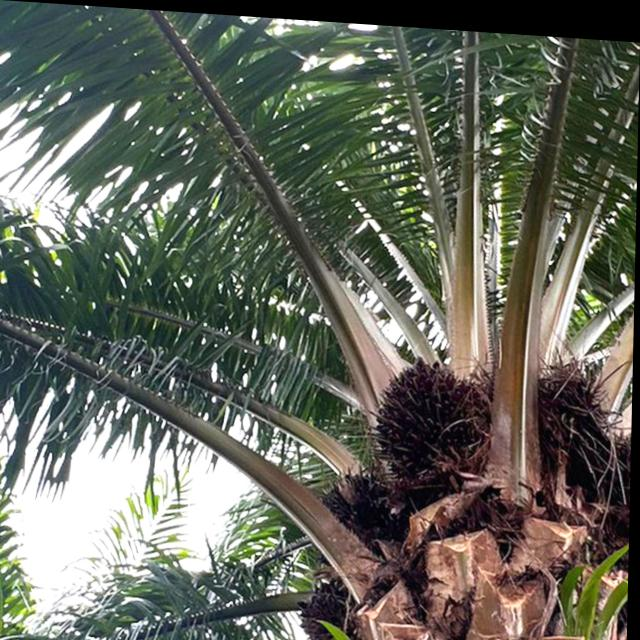almost: (372, 345, 492, 484), (314, 460, 404, 552), (298, 562, 364, 640)
